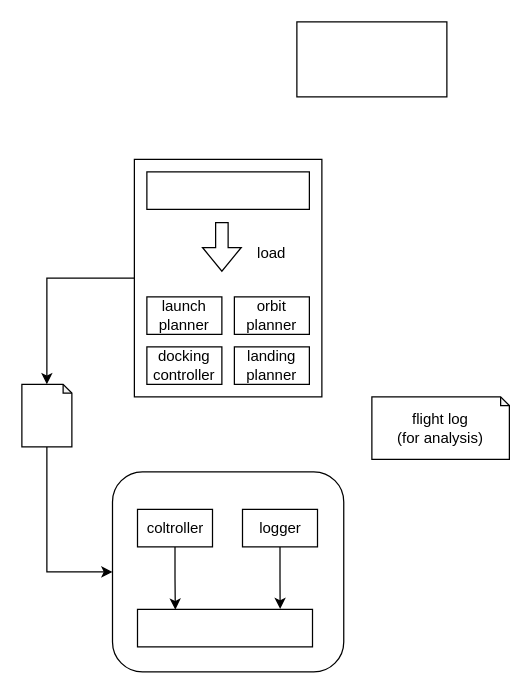
The diagram is 531 pixels wide and 694 high, and some of its shapes have lost their labels. Here are the shapes that lost their labels. From the top down, the centre of each, then its label:
At (371,59): "UI".
At (227,190): "fight plan mannager".
At (46,415): "flight plan".
At (224,627): "ship actuator/sensor".
